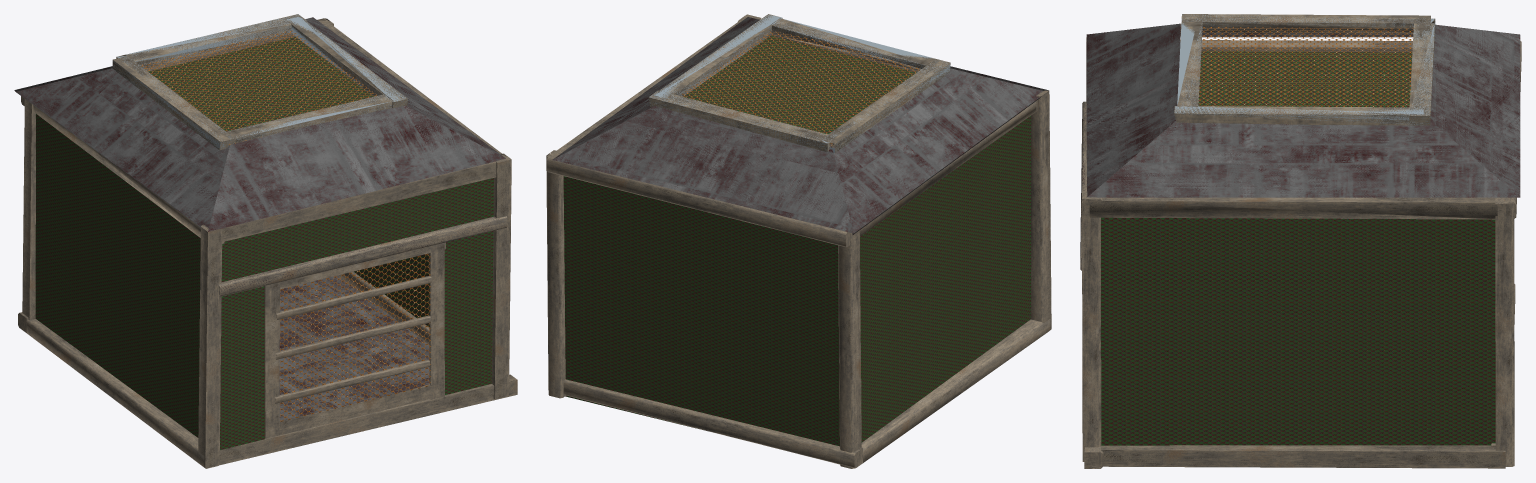
The model's file is cage.fbx.
The picture shows the model from 3 angles, left to right: view 1: azimuth 30°, elevation 25°; view 2: azimuth 150°, elevation 25°; view 3: azimuth 270°, elevation 25°; orthographic projection. The views are drawn at different scales.
Parts seen in each view (by area): view 1: Group1; view 2: Group1; view 3: Group1.
Part boxes in pixels (x1,y1,x2,y2): Group1: (14,14,517,468); Group1: (546,14,1051,468); Group1: (1080,14,1521,468).
Size of the model in its own units: 164 by 143 by 180.
